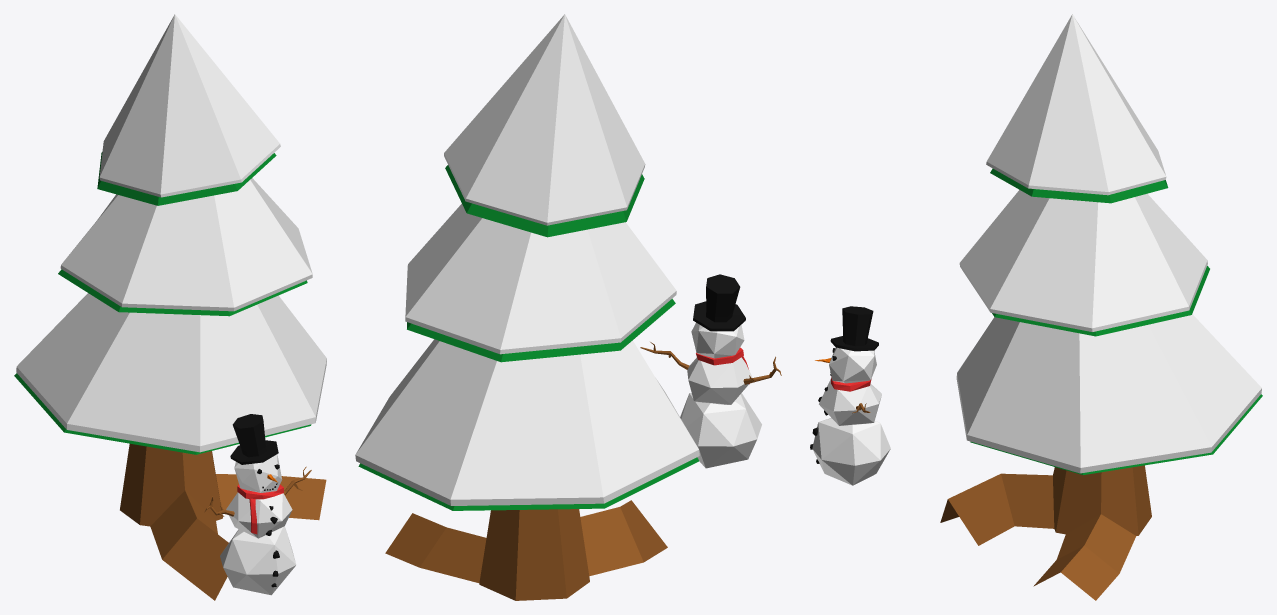
Rendered from christmas-tree-compressed.glb.
The picture shows the model from 3 angles, left to right: view 1: azimuth 30°, elevation 25°; view 2: azimuth 150°, elevation 25°; view 3: azimuth 270°, elevation 25°; orthographic projection. The views are drawn at different scales.
Visible parts, largest first — view 1: Cylinder003_01 - Default_0, Cylinder003_05 - Default_0, snow man_01 - Default_0, Cylinder003_07 - Default_0, snow man_02 - Default_0, snow man_04 - Default_0; view 2: Cylinder003_01 - Default_0, Cylinder003_05 - Default_0, snow man_01 - Default_0, Cylinder003_07 - Default_0, snow man_02 - Default_0; view 3: Cylinder003_01 - Default_0, Cylinder003_05 - Default_0, snow man_01 - Default_0, Cylinder003_07 - Default_0, snow man_02 - Default_0.
Part boxes in pixels (x1,y1,x2,y2): Cylinder003_01 - Default_0: (16, 14, 326, 452); Cylinder003_05 - Default_0: (120, 443, 326, 600); snow man_01 - Default_0: (220, 454, 296, 595); Cylinder003_07 - Default_0: (14, 152, 311, 454); snow man_02 - Default_0: (230, 414, 279, 587); snow man_04 - Default_0: (237, 484, 283, 534); Cylinder003_01 - Default_0: (355, 14, 699, 505); Cylinder003_05 - Default_0: (385, 500, 667, 600); snow man_01 - Default_0: (680, 322, 761, 468); Cylinder003_07 - Default_0: (358, 165, 699, 510); snow man_02 - Default_0: (693, 274, 745, 331); Cylinder003_01 - Default_0: (956, 14, 1261, 473); Cylinder003_05 - Default_0: (940, 465, 1151, 600); snow man_01 - Default_0: (812, 347, 890, 485); Cylinder003_07 - Default_0: (970, 168, 1262, 474); snow man_02 - Default_0: (810, 306, 878, 463).
Bounding box in the file's own units: 34.14 × 63.43 × 49.82.
